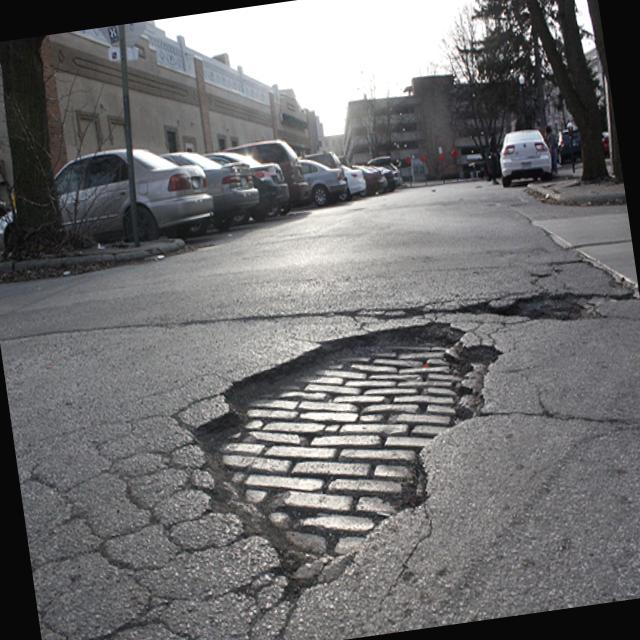bad-road: (179, 310, 532, 618), (16, 425, 218, 640), (342, 290, 495, 332), (496, 284, 590, 334), (526, 253, 593, 290), (588, 287, 640, 323)
